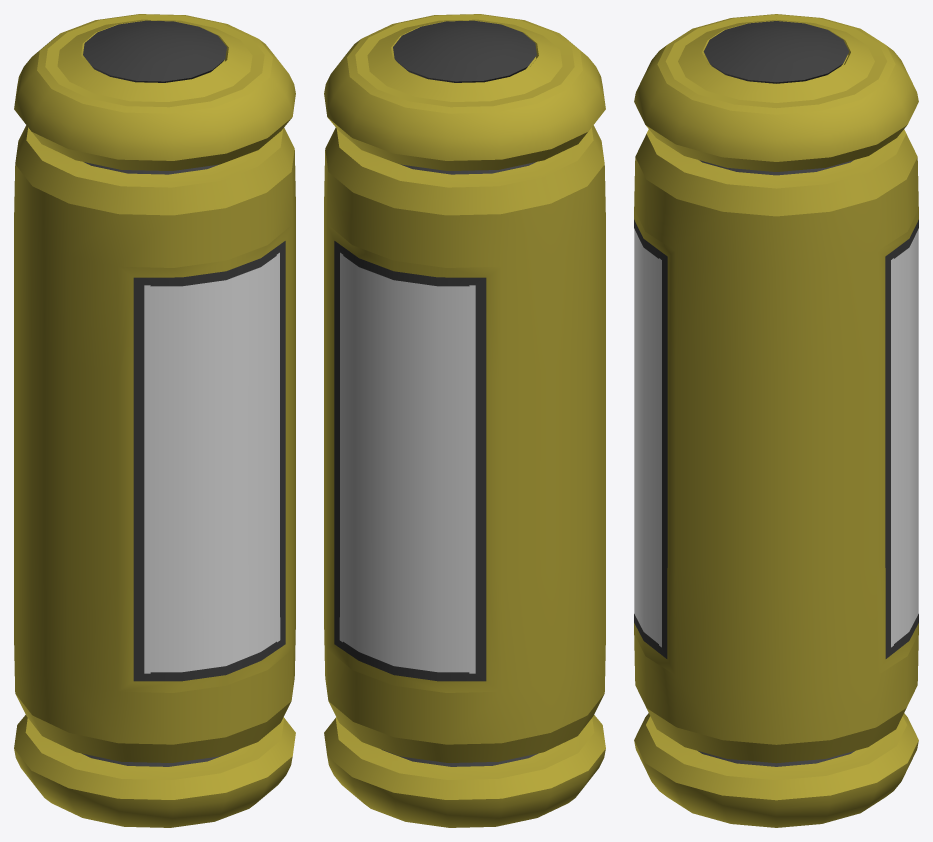
Rendered from Bateria.fbx.
The picture shows the model from 3 angles, left to right: view 1: azimuth 30°, elevation 25°; view 2: azimuth 150°, elevation 25°; view 3: azimuth 270°, elevation 25°; orthographic projection.
Visible parts, largest first — view 1: Bateria, Cristal_Bateria, Marco_Bateria; view 2: Bateria, Cristal_Bateria, Marco_Bateria; view 3: Bateria, Cristal_Bateria, Marco_Bateria.
Boxes of the visible parts, x1,y1,x2,y2 form: Bateria: [14, 14, 295, 827]; Cristal_Bateria: [144, 252, 280, 673]; Marco_Bateria: [133, 241, 285, 681]; Bateria: [324, 14, 605, 827]; Cristal_Bateria: [339, 252, 475, 673]; Marco_Bateria: [334, 241, 486, 681]; Bateria: [634, 14, 918, 827]; Cristal_Bateria: [634, 229, 918, 647]; Marco_Bateria: [634, 219, 918, 658].
Bounding box in the file's own units: 1.12 × 3.31 × 1.12.
